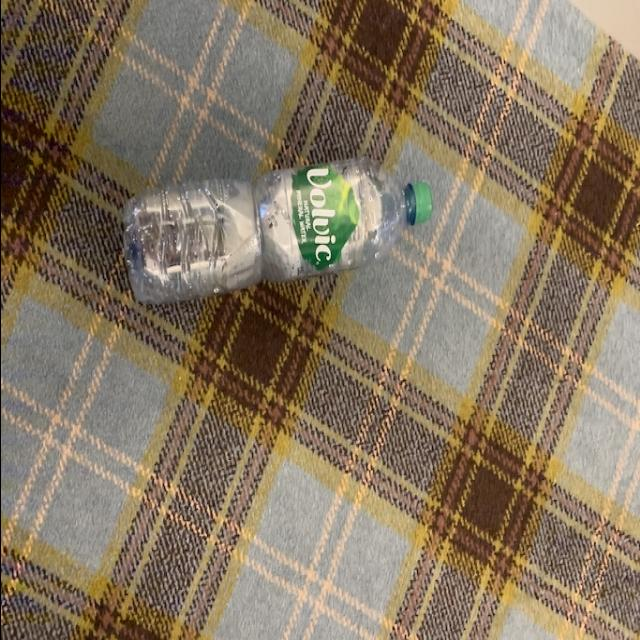litter: (116, 158, 432, 308)
